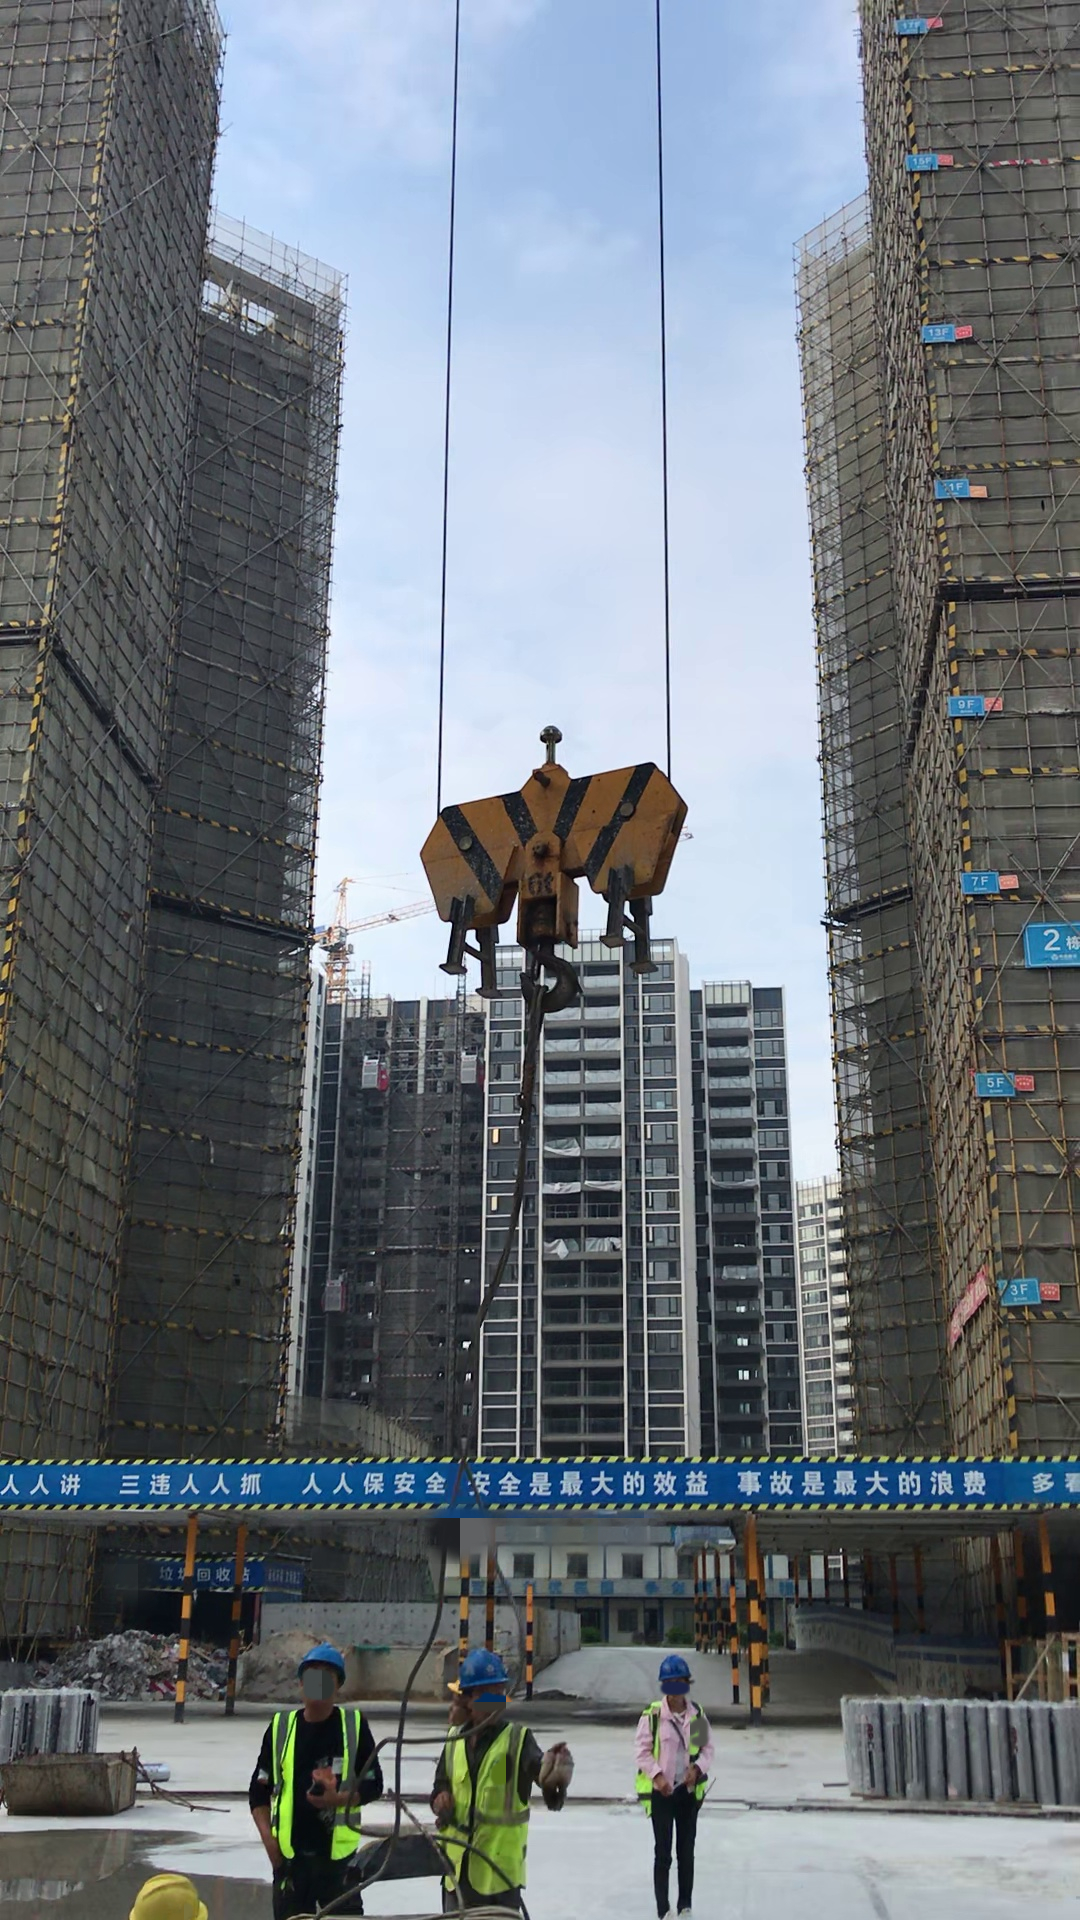helmet: (641, 1651, 714, 1705), (455, 1633, 517, 1688), (292, 1630, 353, 1673)
hook: (359, 719, 689, 991)
hopper: (5, 1734, 152, 1837)
person: (420, 1661, 566, 1919), (624, 1643, 757, 1906), (257, 1633, 376, 1920)
slogan: (1, 1434, 1075, 1508)
vest: (443, 1727, 539, 1894), (273, 1697, 364, 1862)
